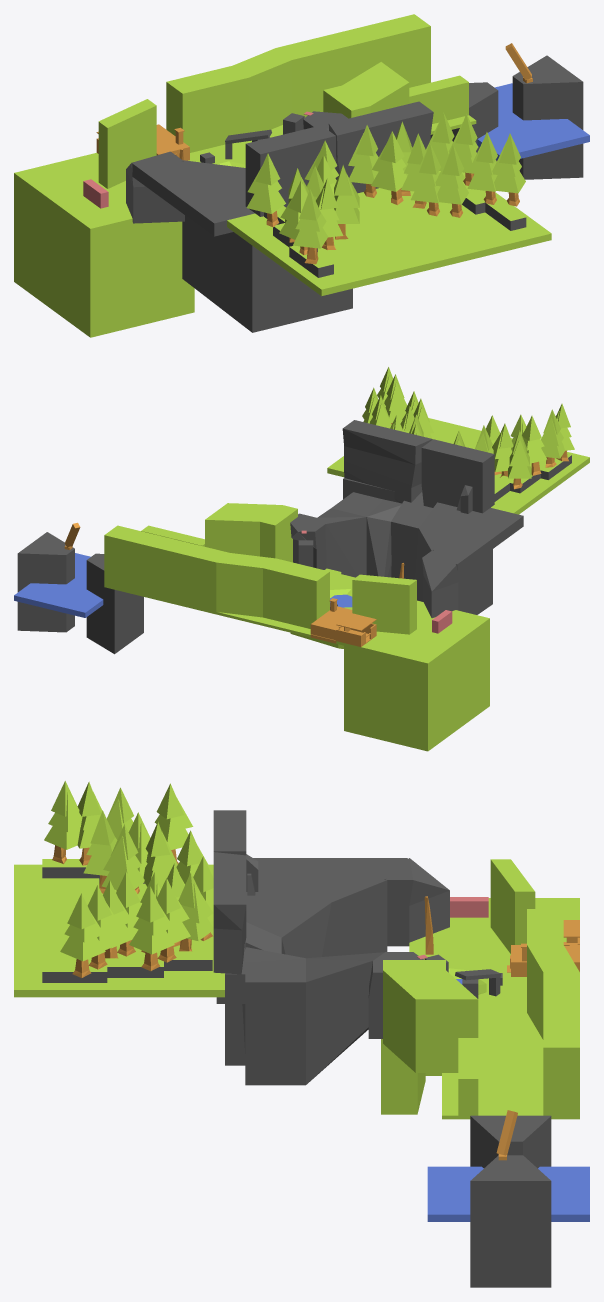
Rendered from forest_pool.glb.
The picture shows the model from 3 angles, top to bottom: view 1: azimuth 30°, elevation 25°; view 2: azimuth 150°, elevation 25°; view 3: azimuth 270°, elevation 25°; orthographic projection. The views are drawn at different scales.
Parts seen in each view (by area): view 1: PoolArea-col; view 2: PoolArea-col; view 3: PoolArea-col.
Boxes of the visible parts, bbox=[...] form: PoolArea-col: bbox=[14, 14, 589, 337]; PoolArea-col: bbox=[14, 367, 589, 751]; PoolArea-col: bbox=[14, 781, 589, 1287].
Size of the model in its own units: 165 by 74.62 by 142.
